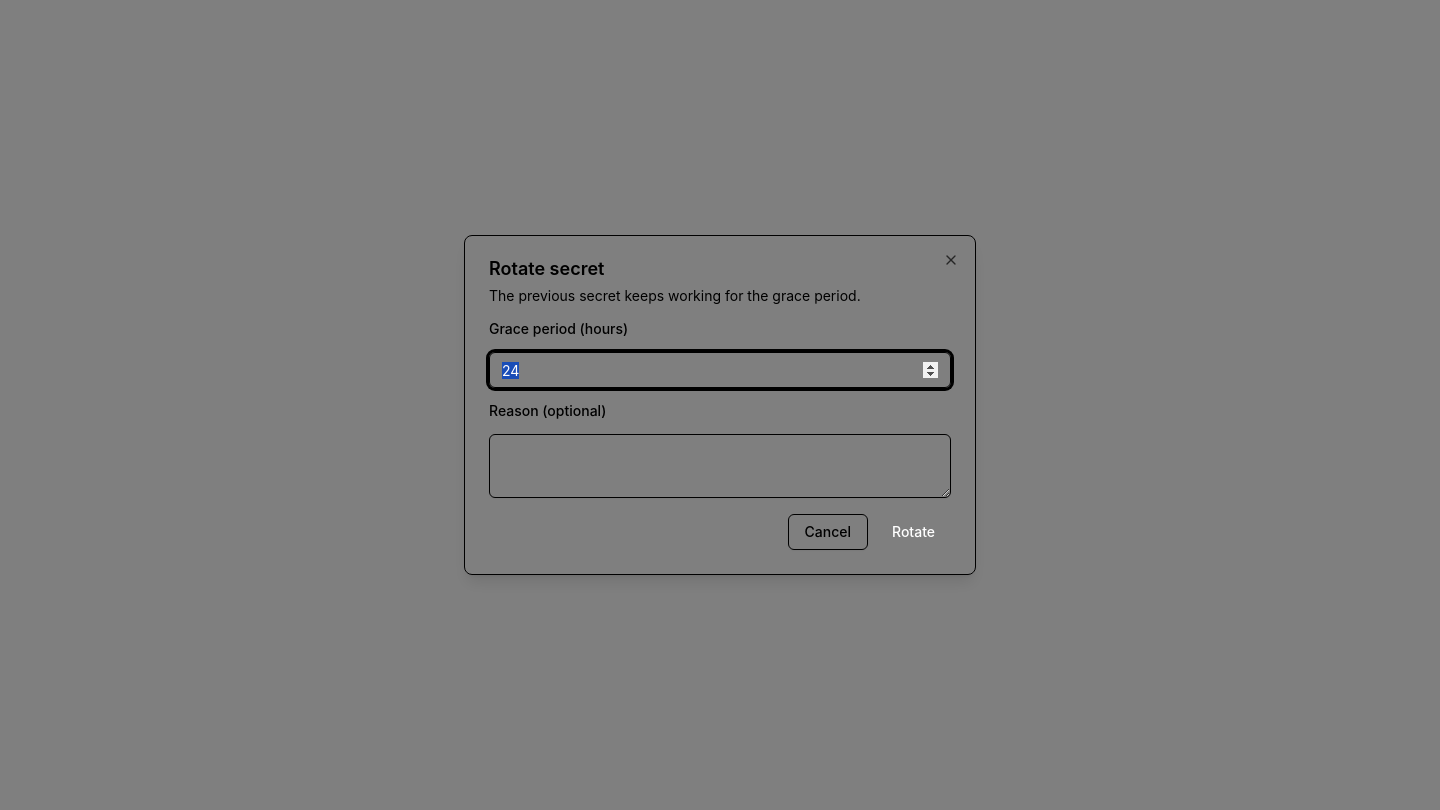
Test: RotateSecretDialog › warns when grace_hours is 0
Expected: the text "revokes the current secret immediately" is not shown
Clear the number field labelled "Grace period (hours)": (720, 370) [489,352,951,388]
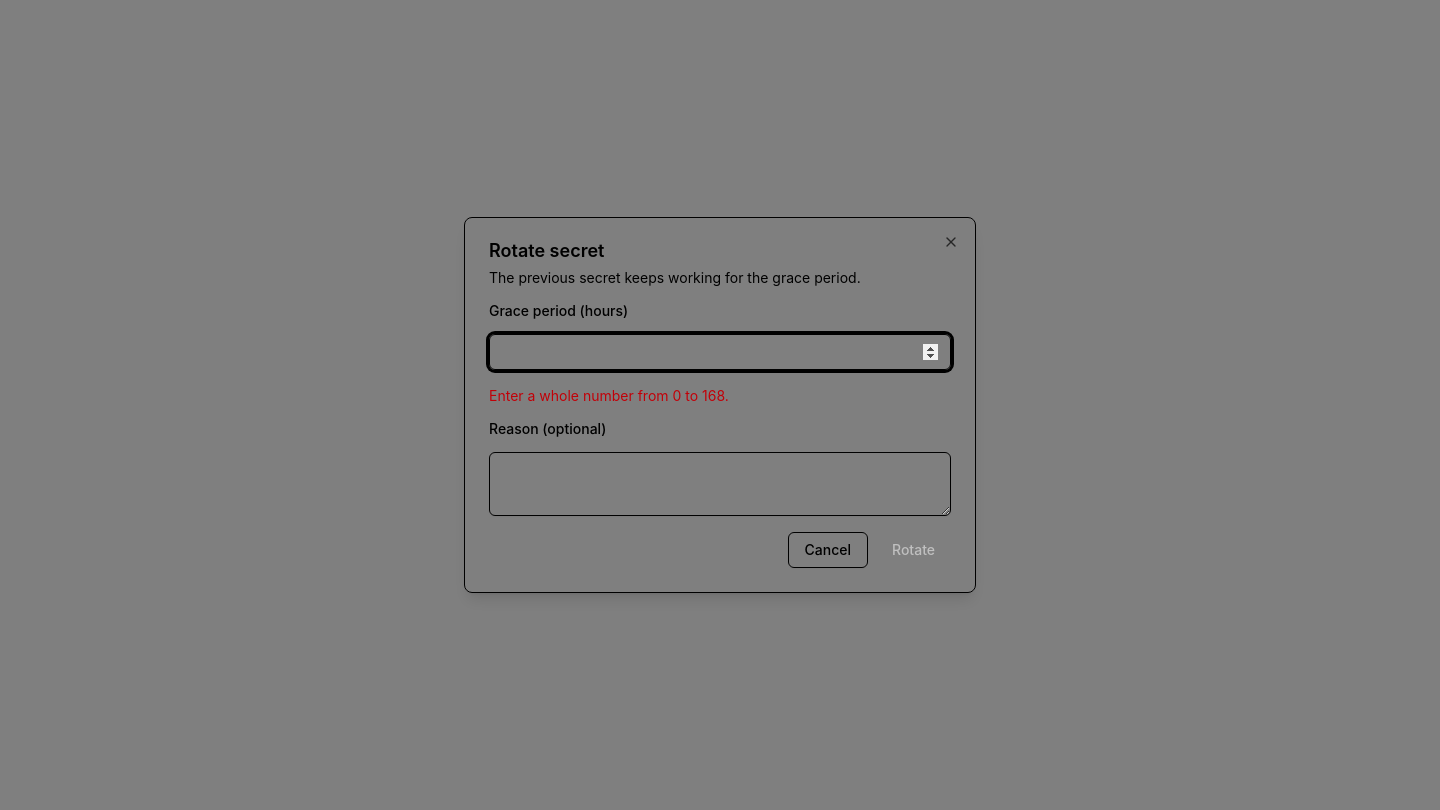
In the number field labelled "Grace period (hours)": (720, 352) [489,334,951,370], type "0"
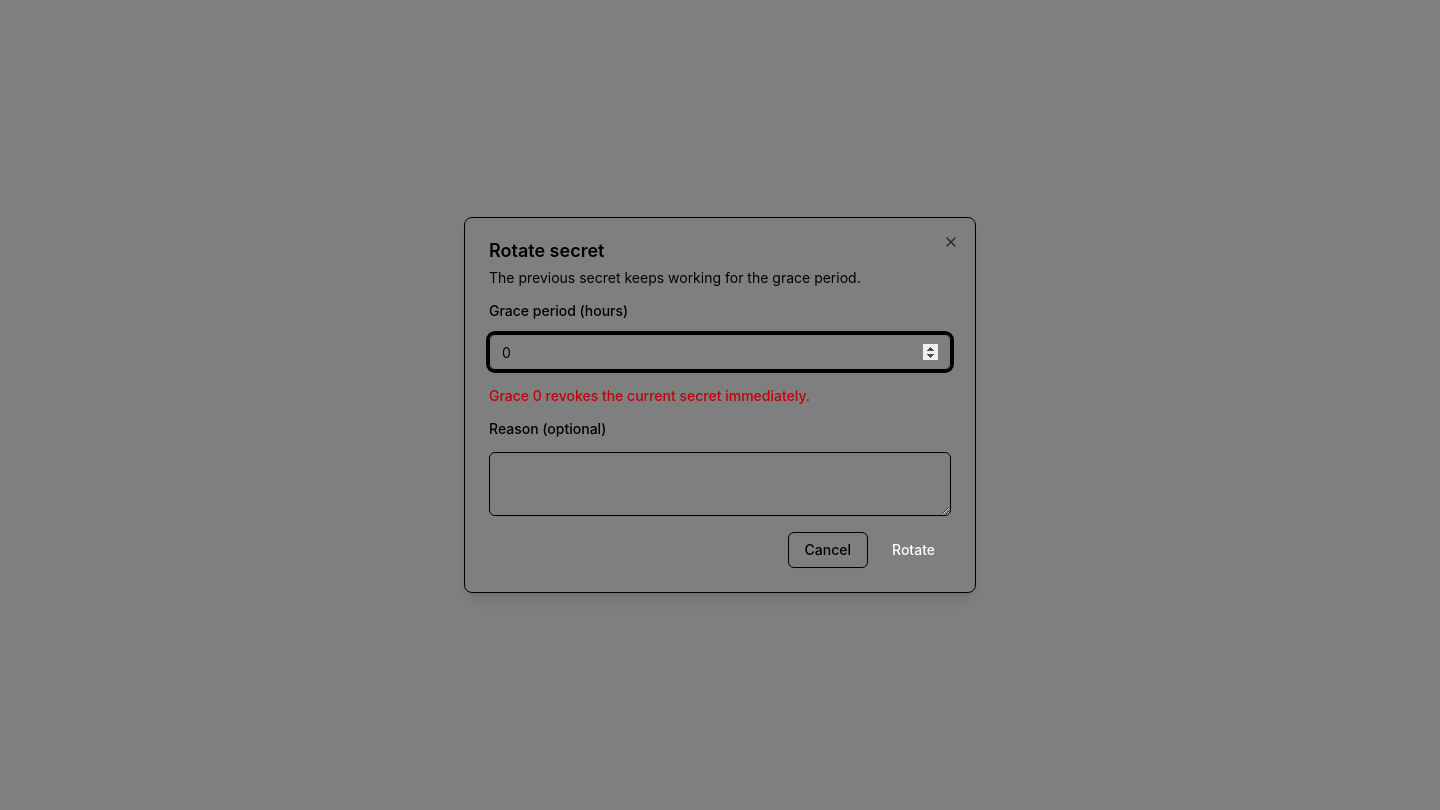
Expected: the text "Grace 0 revokes the current secret immediately." is shown, [489,387,810,404]
